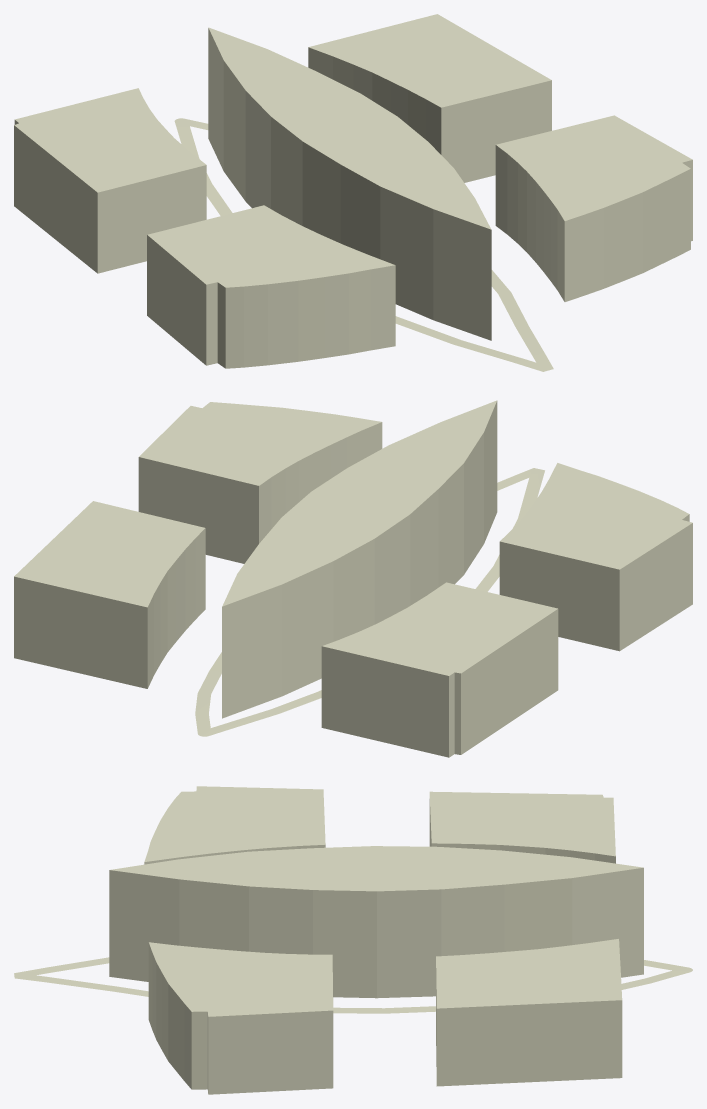
The model's file is main.fbx.
3 renders of one model, top to bottom at view 1: azimuth 30°, elevation 25°; view 2: azimuth 150°, elevation 25°; view 3: azimuth 270°, elevation 25°, orthographic. The views are drawn at different scales.
Visible parts, largest first — view 1: Group2, Group4, Group1, Group3, Group5, Group6; view 2: Group2, Group3, Group5, Group4, Group1, Group6; view 3: Group2, Group1, Group5, Group3, Group4, Group6.
Part boxes in pixels (left/top/right/bottom): Group2: left=208, top=27, right=491, bottom=340; Group4: left=147, top=205, right=395, bottom=368; Group1: left=495, top=115, right=692, bottom=301; Group3: left=14, top=88, right=206, bottom=273; Group5: left=308, top=14, right=551, bottom=182; Group6: left=174, top=118, right=553, bottom=371; Group2: left=222, top=400, right=497, bottom=718; Group3: left=321, top=582, right=558, bottom=757; Group5: left=14, top=501, right=205, bottom=688; Group4: left=499, top=463, right=692, bottom=651; Group1: left=138, top=402, right=382, bottom=563; Group6: left=195, top=468, right=544, bottom=736; Group2: left=109, top=846, right=643, bottom=998; Group1: left=148, top=942, right=333, bottom=1094; Group5: left=436, top=939, right=622, bottom=1086; Group3: left=429, top=791, right=615, bottom=863; Group4: left=144, top=786, right=325, bottom=864; Group6: left=14, top=957, right=692, bottom=1013.
Bounding box in the file's own units: 29.39 × 6.42 × 36.51.
